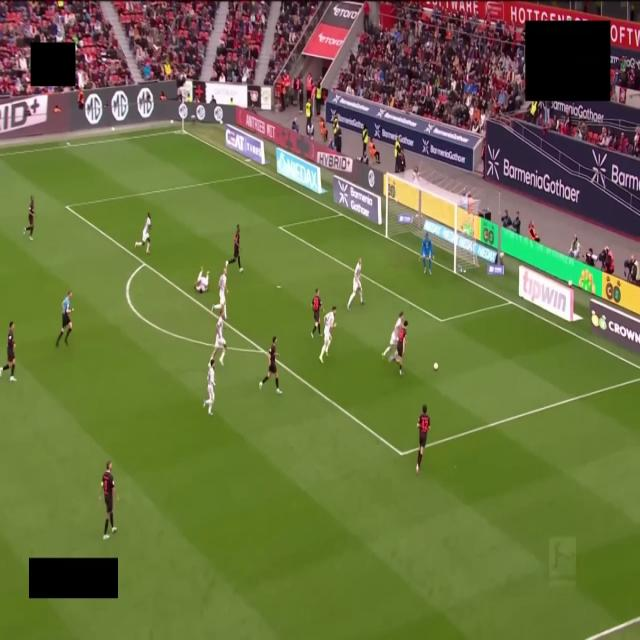ball: (433, 363, 438, 370)
player: (99, 461, 118, 540), (259, 336, 281, 394), (390, 321, 408, 375), (416, 405, 430, 474), (0, 321, 16, 381), (382, 312, 403, 357), (320, 306, 336, 363), (347, 258, 364, 310), (226, 224, 243, 272), (212, 268, 227, 319), (212, 314, 226, 366), (135, 213, 151, 253), (203, 357, 214, 415), (420, 233, 433, 274), (23, 196, 34, 240), (311, 289, 321, 337), (194, 269, 208, 293)
referee: (56, 291, 73, 347)
